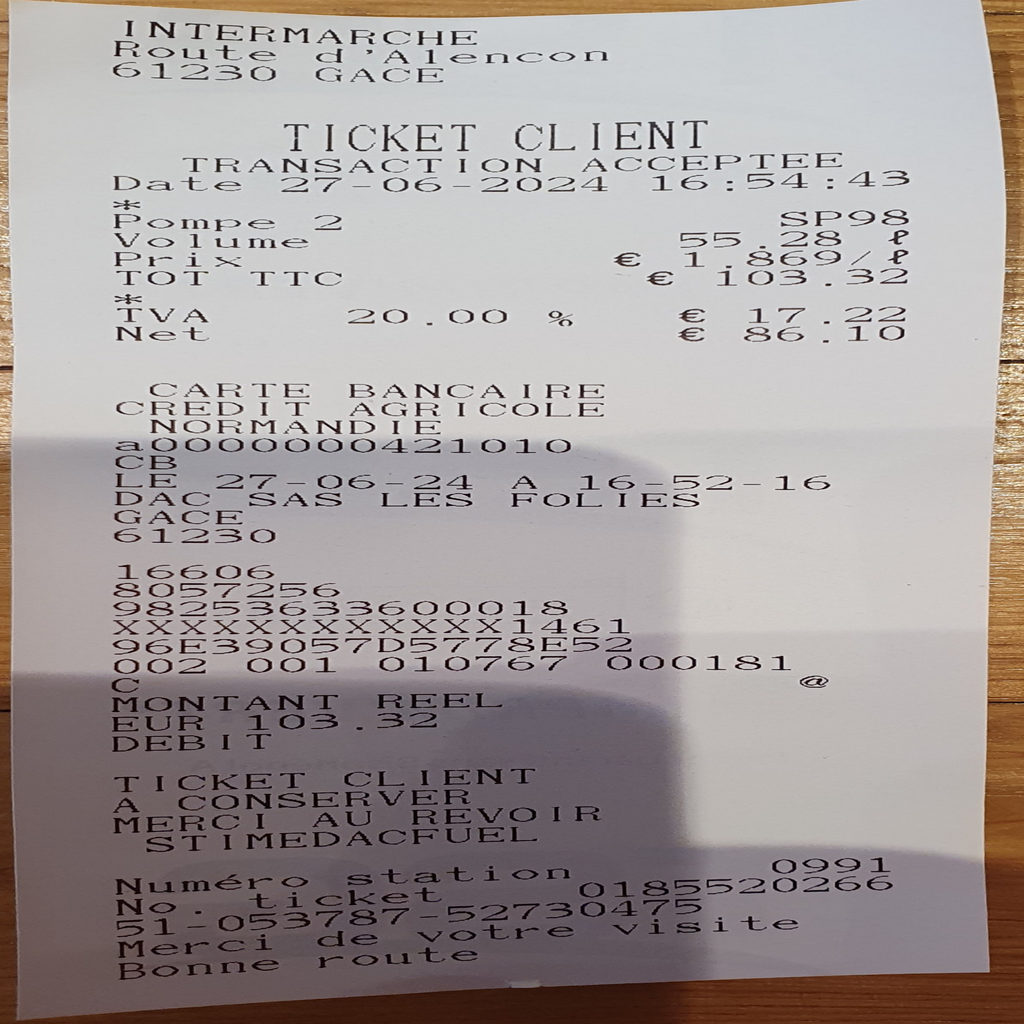recipt: (11, 0, 1011, 1013)
